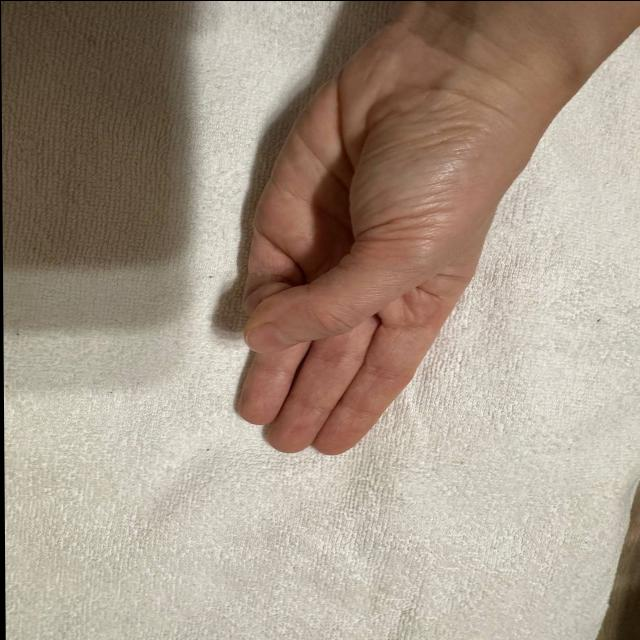sh: (205, 73, 498, 470)
